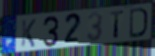2: (63, 12, 83, 47)
3: (41, 14, 61, 48), (85, 10, 104, 44)
D: (129, 7, 149, 39)
K: (20, 18, 37, 48)
T: (110, 9, 125, 39)
